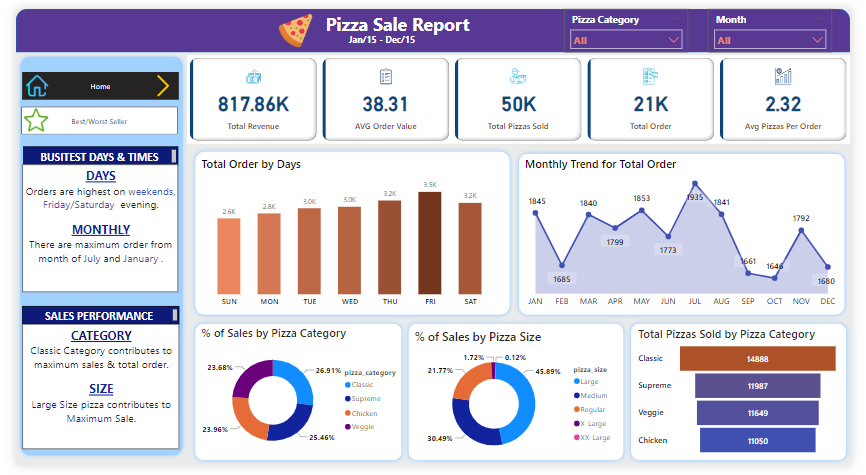

The page's visual inventory and layout, read from the dashboard file:
{"tool":"powerbi","page":{"name":"Home","canvas":[1500,820],"ordinal":0},"visuals":[{"type":"cardVisual","fields":{"Data":["pizza_sales.Total Revenue","pizza_sales.AVG Order Value","pizza_sales.Total Pizzas Sold","pizza_sales.Total Order","pizza_sales.Avg Pizzas Per Order"]},"box":[307.7,83,1191,159],"z":0},{"type":"shape","box":[0,0,1498.7,77.8],"z":1000},{"type":"textbox","box":[551.4,0,321.5,55.3],"z":2000},{"type":"textbox","box":[592.9,39.8,191.9,43.2],"z":3000},{"type":"shape","box":[312.9,247.1,582.9,311.4],"z":4000},{"type":"shape","box":[893.7,250.6,603.3,307.7],"z":5000},{"type":"shape","box":[312.9,557.1,388.6,262.8],"z":6000},{"type":"shape","box":[697.1,557.1,404.3,262.8],"z":7000},{"type":"shape","box":[1095.9,556.6,404.5,262.7],"z":8000},{"type":"donutChart","title":"% of Sales by Pizza Category","fields":{"Category":["pizza_sales.pizza_category"],"Y":["pizza_sales.Total Revenue"]},"box":[328.6,568.6,375.7,244.3],"z":9000},{"type":"donutChart","title":"% of Sales by Pizza Size","fields":{"Category":["pizza_sales.pizza_size"],"Y":["pizza_sales.Total Revenue"]},"box":[712.2,573.9,375.1,243.7],"z":10000},{"type":"funnel","title":"Total Pizzas Sold by Pizza Category","fields":{"Category":["pizza_sales.pizza_category"],"Y":["pizza_sales.Total Pizzas Sold"]},"box":[1113.2,570.4,369.9,236.8],"z":11000},{"type":"shape","box":[0,77.8,307.7,732.9],"z":12000},{"type":"textbox","box":[12.9,247.1,278.6,34.3],"z":13000},{"type":"textbox","box":[12.1,278.3,280,229.9],"z":14000},{"type":"textbox","box":[12.1,534.1,281.7,32.8],"z":15000},{"type":"textbox","box":[12.1,567,281.7,224.7],"z":16000},{"type":"slicer","fields":{"Values":["pizza_sales.pizza_category"]},"box":[985.3,0,223,77.8],"z":17000},{"type":"slicer","fields":{"Values":["pizza_sales.Order Month"]},"box":[1242.9,0,223,77.8],"z":18000},{"type":"pageNavigator","box":[12.1,112.4,281.8,50.1],"z":19000},{"type":"pageNavigator","box":[8.6,174.6,281.8,50.1],"z":20000},{"type":"image","box":[236.8,112.4,53.6,50.1],"z":21000},{"type":"image","box":[12.1,114.1,53.6,50.1],"z":22000},{"type":"image","box":[8.6,167.7,53.6,62.2],"z":23000},{"type":"image","box":[466.7,0,72.6,77.8],"z":24000},{"type":"areaChart","title":"Monthly Trend for Total Order","fields":{"Category":["pizza_sales.Order Month"],"Y":["pizza_sales.Total Order"]},"box":[909.2,264.5,573.9,281.8],"z":25000},{"type":"columnChart","title":"Total Order by Days ","fields":{"Category":["pizza_sales.Day Name(Short)"],"Y":["pizza_sales.Total Order"]},"box":[328.4,264.5,544.5,281.8],"z":26000}]}

Visuals, with their boxes in screenshot pixels (x1, y1, x2, y2), scaled from the page's 1500x820 canvas onto the 866x475 screenshot:
cardVisual - pizza_sales.Total Revenue x pizza_sales.AVG Order Value: pyautogui.locateOnScreen(178, 48, 865, 140)
shape: pyautogui.locateOnScreen(0, 0, 865, 45)
textbox: pyautogui.locateOnScreen(318, 0, 504, 32)
textbox: pyautogui.locateOnScreen(342, 23, 453, 48)
shape: pyautogui.locateOnScreen(181, 143, 517, 324)
shape: pyautogui.locateOnScreen(516, 145, 864, 323)
shape: pyautogui.locateOnScreen(181, 323, 405, 474)
shape: pyautogui.locateOnScreen(402, 323, 636, 474)
shape: pyautogui.locateOnScreen(633, 322, 865, 474)
"% of Sales by Pizza Category" donutChart: pyautogui.locateOnScreen(190, 329, 407, 471)
"% of Sales by Pizza Size" donutChart: pyautogui.locateOnScreen(411, 332, 628, 474)
"Total Pizzas Sold by Pizza Category" funnel: pyautogui.locateOnScreen(643, 330, 856, 468)
shape: pyautogui.locateOnScreen(0, 45, 178, 470)
textbox: pyautogui.locateOnScreen(7, 143, 168, 163)
textbox: pyautogui.locateOnScreen(7, 161, 169, 294)
textbox: pyautogui.locateOnScreen(7, 309, 170, 328)
textbox: pyautogui.locateOnScreen(7, 328, 170, 459)
slicer - pizza_sales.pizza_category: pyautogui.locateOnScreen(569, 0, 698, 45)
slicer - pizza_sales.Order Month: pyautogui.locateOnScreen(718, 0, 846, 45)
pageNavigator: pyautogui.locateOnScreen(7, 65, 170, 94)
pageNavigator: pyautogui.locateOnScreen(5, 101, 168, 130)
image: pyautogui.locateOnScreen(137, 65, 168, 94)
image: pyautogui.locateOnScreen(7, 66, 38, 95)
image: pyautogui.locateOnScreen(5, 97, 36, 133)
image: pyautogui.locateOnScreen(269, 0, 311, 45)
"Monthly Trend for Total Order" areaChart: pyautogui.locateOnScreen(525, 153, 856, 316)
"Total Order by Days " columnChart: pyautogui.locateOnScreen(190, 153, 504, 316)
